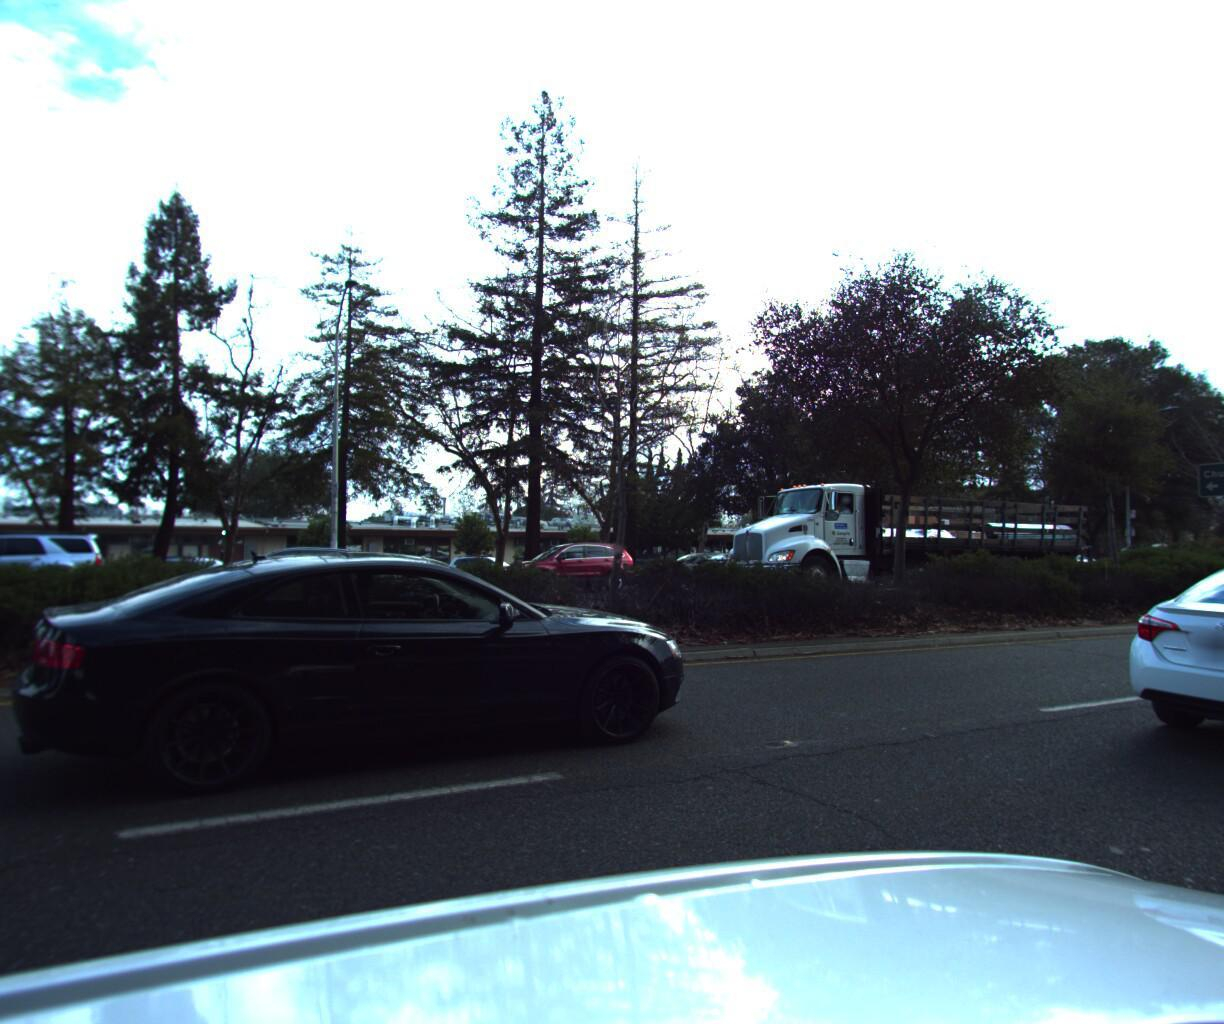car: (26, 548, 730, 833), (1078, 538, 1224, 802), (178, 543, 381, 612), (0, 528, 109, 622), (485, 537, 640, 600)
truck: (692, 478, 1101, 595)
